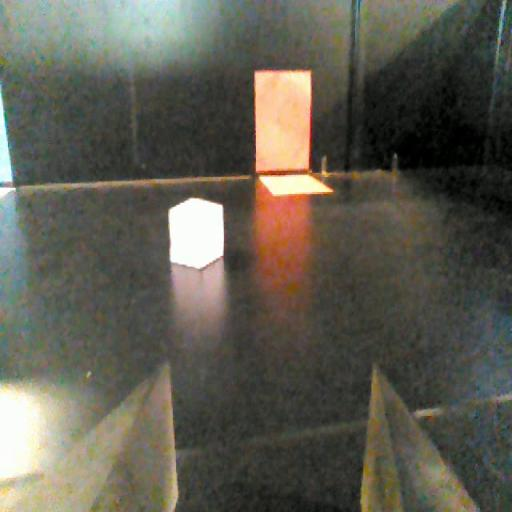cube: (164, 194, 227, 272)
